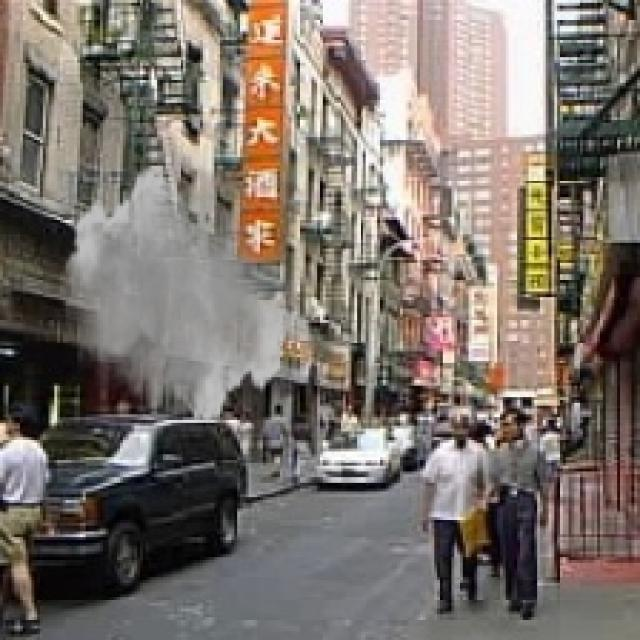Smoke: (60, 166, 297, 426)
